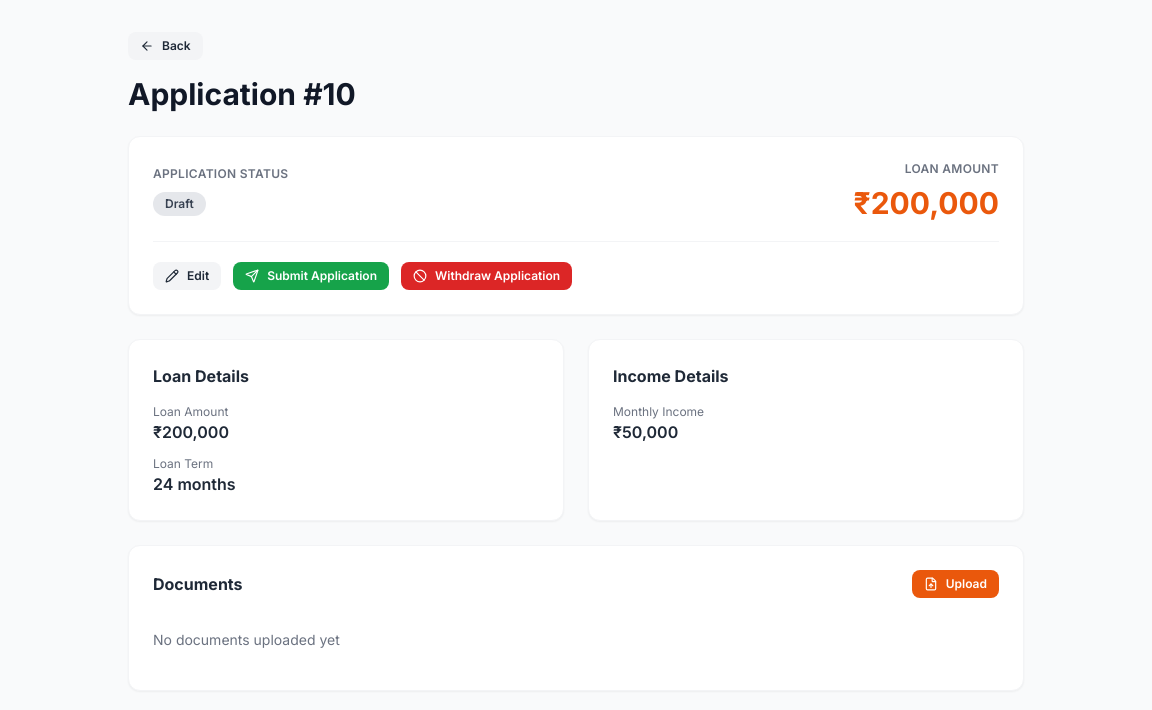
Scenario: ApplicationDetails — Draft actions (Submit / Withdraw / Edit) › submits the draft application and shows a success message
Expected: the heading "Application #10" is shown, x1=128 y1=76 x2=356 y2=112
Click the button "Submit Application".
click(311, 276)  # box x1=233 y1=262 x2=389 y2=290
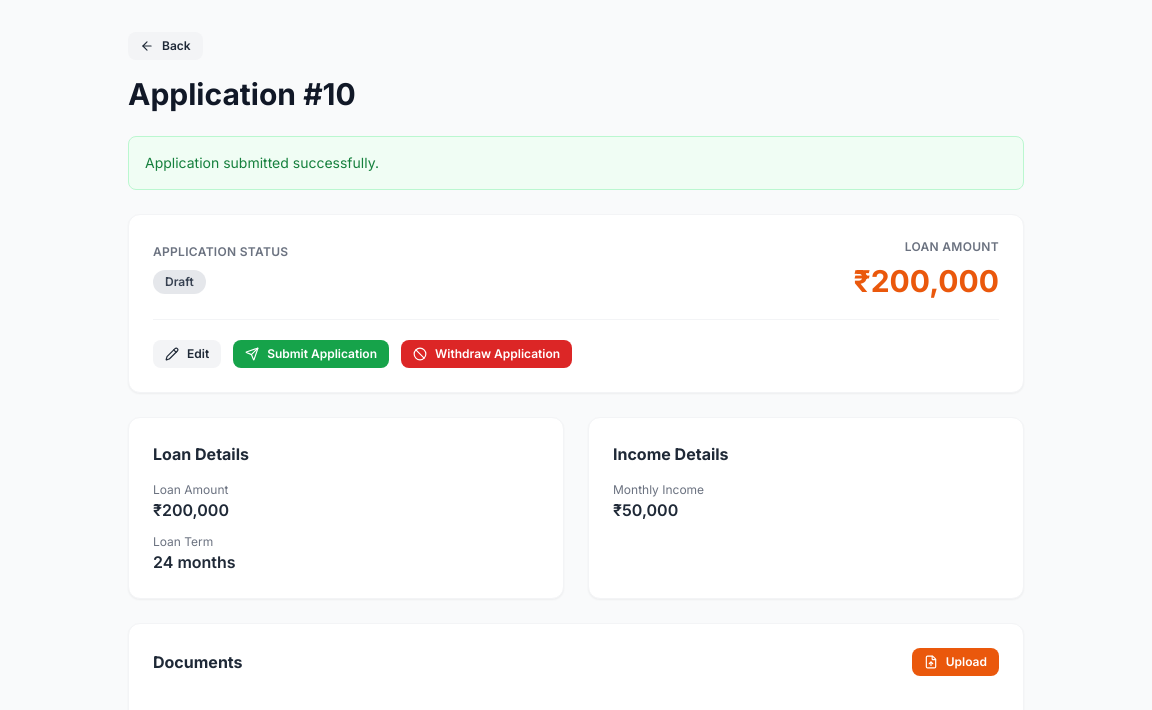
Result: the text "Application submitted successfully." is shown at x1=128 y1=136 x2=1024 y2=190
